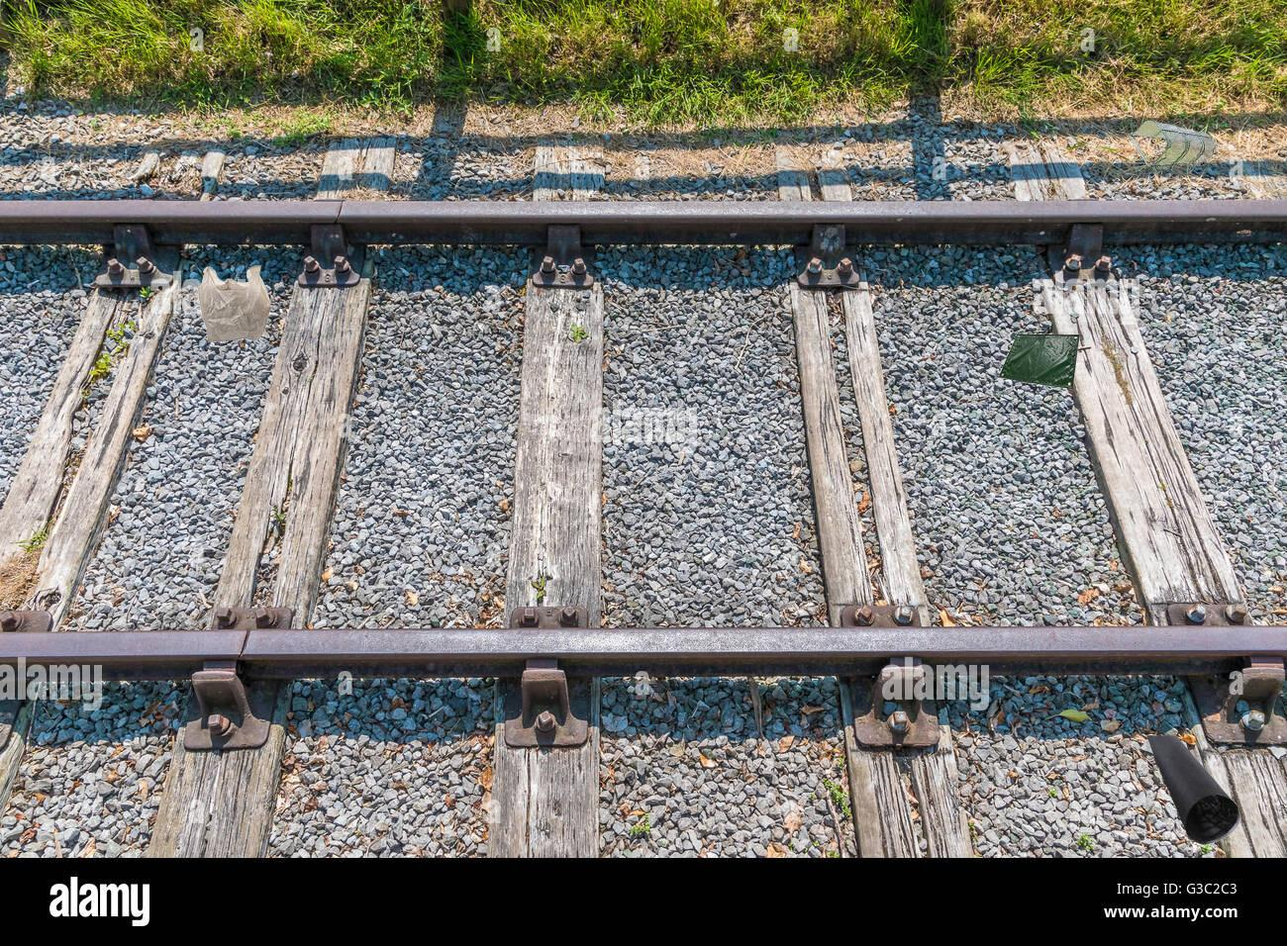Dust_screen: (992, 325, 1089, 398)
Green_house: (1131, 101, 1214, 176)
Plastic: (184, 259, 281, 366)
